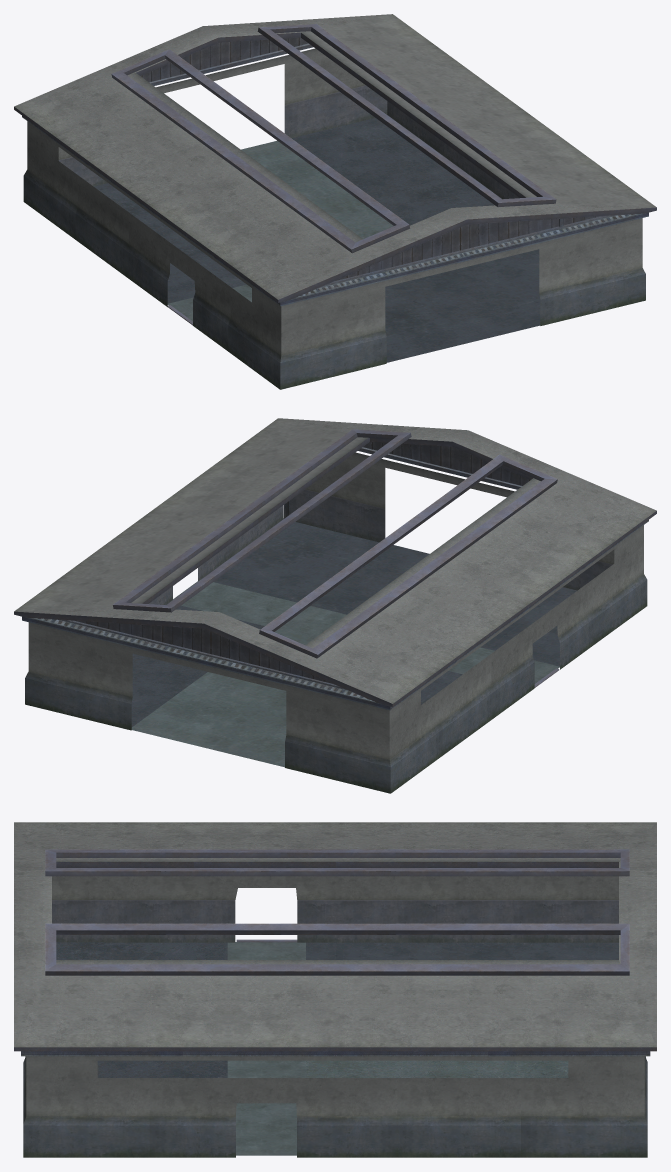
File: BuildingJk_lod2.glb
3 views of the same model, one above another, from view 1: azimuth 30°, elevation 25°; view 2: azimuth 150°, elevation 25°; view 3: azimuth 270°, elevation 25° (orthographic). The views are drawn at different scales.
Visible parts, largest first — view 1: xiutz_building_jk_lod2_0; view 2: xiutz_building_jk_lod2_0; view 3: xiutz_building_jk_lod2_0.
Boxes of the visible parts, box(x1,y1,x2,y2) form: xiutz_building_jk_lod2_0: box(14, 14, 656, 389); xiutz_building_jk_lod2_0: box(14, 418, 656, 793); xiutz_building_jk_lod2_0: box(14, 822, 656, 1157).
Size of the model in its own units: 33.41 by 10.83 by 40.35.
Materials: 2 (2 with a texture image).
